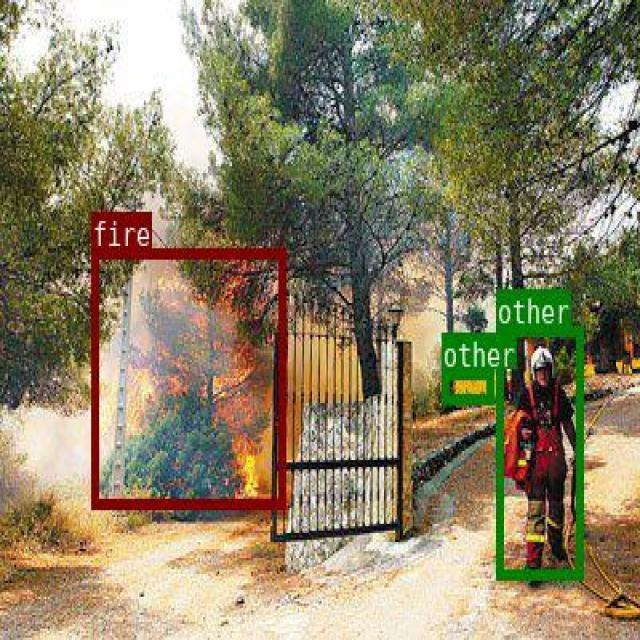fire: (91, 248, 285, 506)
